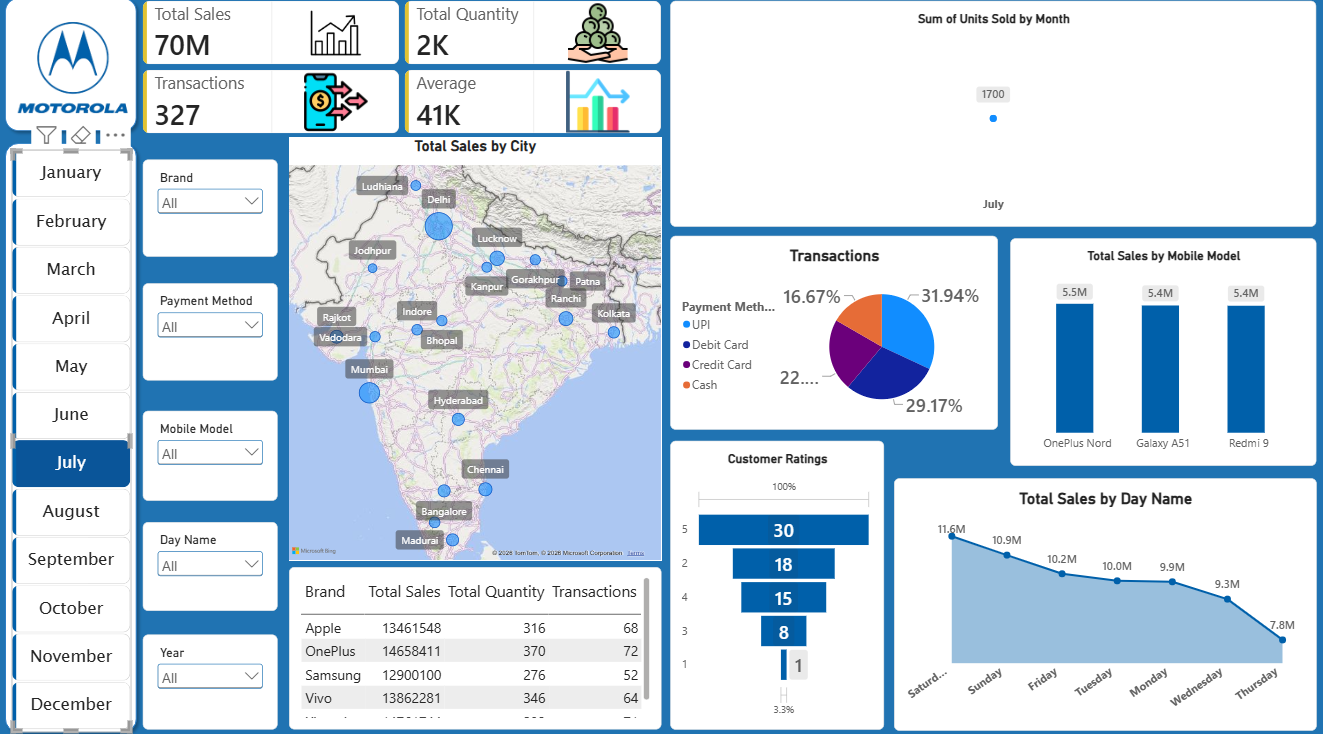

What the dashboard file says about the page in this screenshot:
{"tool":"powerbi","page":{"name":"Page 1","canvas":[1920,1080],"ordinal":0},"visuals":[{"type":"shape","box":[0,0,208,210],"z":0},{"type":"image","box":[27.1,12.7,159.3,193.6],"z":1000},{"type":"shape","box":[0,209.9,208.1,870.4],"z":2000},{"type":"advancedSlicerVisual","fields":{"Values":["Sales_Data.Date.Variation.Date Hierarchy.Month"]},"box":[18.1,228,173.7,843.3],"z":3000},{"type":"cardVisual","fields":{"Data":["Sales_Data.Total Sales","Sales_Data.Total Quantity","Sales_Data.Transactions","Sales_Data.Average"]},"box":[208.1,12.7,751,193.6],"z":4000},{"type":"map","fields":{"Category":["Sales_Data.City"],"Size":["Sales_Data.Total Sales"]},"box":[419.8,209.9,539.3,613.5],"z":5000},{"type":"lineChart","fields":{"Y":["Sum(Sales_Data.Units Sold)"],"Category":["Sales_Data.Date.Variation.Date Hierarchy.Month","Sales_Data.Date.Variation.Date Hierarchy.Day"]},"box":[971.8,12.7,935.6,327.5],"z":6000},{"type":"clusteredColumnChart","fields":{"Category":["Sales_Data.Mobile Model"],"Y":["Sales_Data.Total Sales"]},"box":[1464,356.5,443.4,329.4],"z":7000},{"type":"pieChart","title":"Transactions","fields":{"Y":["Sales_Data.Transactions"],"Category":["Sales_Data.Payment Method"]},"box":[971.8,352.9,474.1,280.5],"z":8000},{"type":"tableEx","title":"Customer Ratings","fields":{"Values":["Sales_Data.Brand","Sales_Data.Total Sales","Sales_Data.Total Quantity","Sales_Data.Transactions"]},"box":[419.8,832.4,539.3,235.3],"z":9000},{"type":"areaChart","fields":{"Category":["Sales_Data.Day Name"],"Y":["Sales_Data.Total Sales"]},"box":[1295.7,704,611.7,365.6],"z":10000},{"type":"slicer","title":"Customer Ratings","fields":{"Values":["Sales_Data.Brand"]},"box":[208.1,242.5,195.4,141.2],"z":11000},{"type":"slicer","title":"Customer Ratings","fields":{"Values":["Sales_Data.Payment Method"]},"box":[208.1,421.7,195.4,141.2],"z":12000},{"type":"funnel","title":"Customer Ratings","fields":{"Category":["Sales_Data.Customer Ratings"],"Y":["CountNonNull(Sales_Data.Customer Ratings)"]},"box":[971.8,649.7,309.5,418],"z":13000},{"type":"slicer","title":"Customer Ratings","fields":{"Values":["Sales_Data.Mobile Model"]},"box":[208.1,606.2,195.4,130.3],"z":14000},{"type":"slicer","title":"Customer Ratings","fields":{"Values":["Sales_Data.Day Name"]},"box":[208.1,767.3,195.4,128.5],"z":15000},{"type":"slicer","title":"Customer Ratings","fields":{"Values":["Sales_Data.Date.Variation.Date Hierarchy.Year"]},"box":[208.1,930.2,195.4,137.5],"z":16001}]}

Visuals, with their boxes in screenshot pixels (x1, y1, x2, y2), scaled from the page's 1920x1080 canvas onto the 1323x734 screenshot:
shape: x1=0, y1=0, x2=143, y2=143
image: x1=19, y1=9, x2=128, y2=140
shape: x1=0, y1=143, x2=143, y2=733
advancedSlicerVisual - Sales_Data.Date.Variation.Date Hierarchy.Month: x1=12, y1=155, x2=132, y2=728
cardVisual - Sales_Data.Total Sales x Sales_Data.Total Quantity: x1=143, y1=9, x2=661, y2=140
map - Sales_Data.City x Sales_Data.Total Sales: x1=289, y1=143, x2=661, y2=560
lineChart - Sum(Sales_Data.Units Sold) x Sales_Data.Date.Variation.Date Hierarchy.Month: x1=670, y1=9, x2=1314, y2=231
clusteredColumnChart - Sales_Data.Mobile Model x Sales_Data.Total Sales: x1=1009, y1=242, x2=1314, y2=466
"Transactions" pieChart: x1=670, y1=240, x2=996, y2=430
"Customer Ratings" tableEx: x1=289, y1=566, x2=661, y2=726
areaChart - Sales_Data.Day Name x Sales_Data.Total Sales: x1=893, y1=478, x2=1314, y2=727
"Customer Ratings" slicer: x1=143, y1=165, x2=278, y2=261
"Customer Ratings" slicer: x1=143, y1=287, x2=278, y2=383
"Customer Ratings" funnel: x1=670, y1=442, x2=883, y2=726
"Customer Ratings" slicer: x1=143, y1=412, x2=278, y2=501
"Customer Ratings" slicer: x1=143, y1=521, x2=278, y2=609
"Customer Ratings" slicer: x1=143, y1=632, x2=278, y2=726
